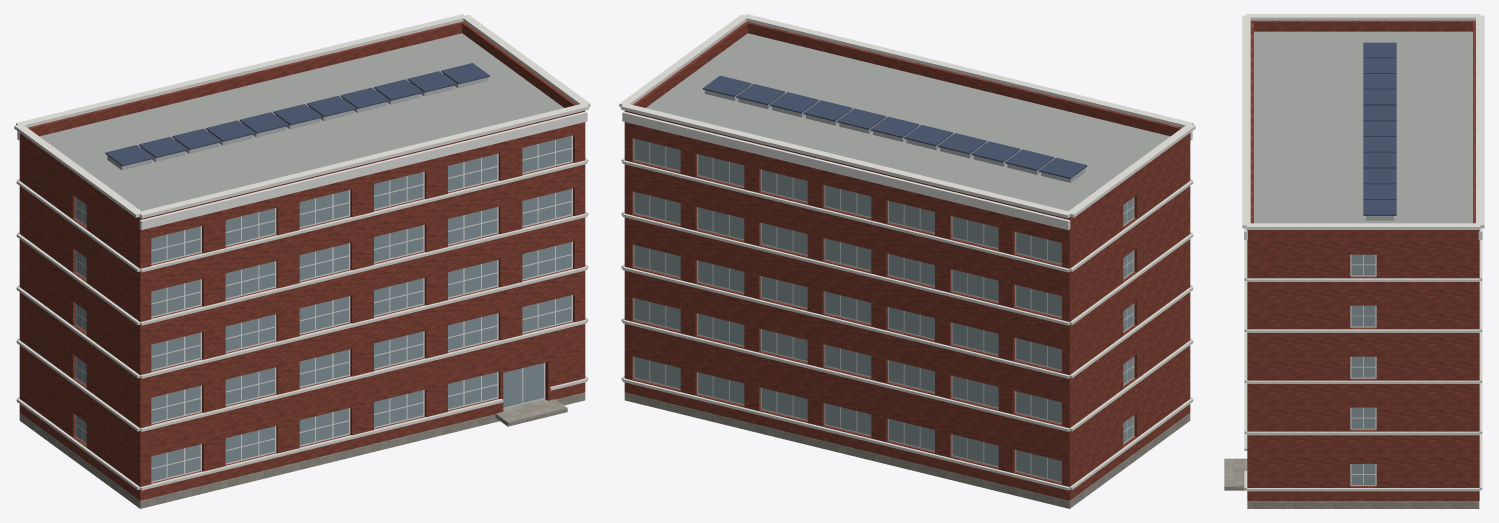
3 views of the same model, side by side, from view 1: azimuth 30°, elevation 25°; view 2: azimuth 150°, elevation 25°; view 3: azimuth 270°, elevation 25° (orthographic). The views are drawn at different scales.
Parts seen in each view (by area): view 1: main-north__brick, main-north__glass, main-north__roof, main-north__sillband, main-north__frame, main-north__coping, main-north__solar, main-north__white, main-north__stone, main-north__steel, main-north__sideglass, main-north__threshold-north-entry; view 2: main-north__brick, main-north__sideglass, main-north__roof, main-north__sillband, main-north__coping, main-north__frame, main-north__solar, main-north__stone, main-north__white, main-north__steel; view 3: main-north__brick, main-north__roof, main-north__coping, main-north__sillband, main-north__solar, main-north__sideglass, main-north__stone, main-north__frame, main-north__threshold-north-entry.
Part boxes in pixels (x1,y1,x2,y2): main-north__brick: (19, 21, 585, 500); main-north__glass: (151, 136, 571, 481); main-north__roof: (39, 33, 563, 211); main-north__sillband: (16, 158, 588, 490); main-north__frame: (75, 135, 572, 482); main-north__coping: (14, 14, 590, 218); main-north__solar: (105, 63, 489, 166); main-north__white: (17, 111, 587, 230); main-north__stone: (19, 392, 585, 508); main-north__steel: (107, 73, 487, 170); main-north__sideglass: (76, 197, 86, 442); main-north__threshold-north-entry: (495, 399, 567, 426); main-north__brick: (624, 21, 1190, 500); main-north__sideglass: (634, 139, 1133, 481); main-north__roof: (646, 33, 1170, 211); main-north__sillband: (621, 158, 1193, 490); main-north__coping: (619, 14, 1195, 218); main-north__frame: (633, 138, 1134, 482); main-north__solar: (702, 75, 1087, 178); main-north__stone: (624, 392, 1190, 508); main-north__white: (622, 111, 1192, 230); main-north__steel: (704, 86, 1085, 182); main-north__brick: (1247, 20, 1479, 500); main-north__roof: (1254, 31, 1472, 223); main-north__coping: (1242, 14, 1484, 229); main-north__sillband: (1244, 240, 1482, 491); main-north__solar: (1363, 42, 1396, 215); main-north__sideglass: (1351, 254, 1375, 484); main-north__stone: (1247, 501, 1479, 508); main-north__frame: (1350, 254, 1376, 485); main-north__threshold-north-entry: (1224, 458, 1247, 490).
Size of the model in its own units: 30.44 by 18.92 by 15.72.
12 materials, 2 textured.
